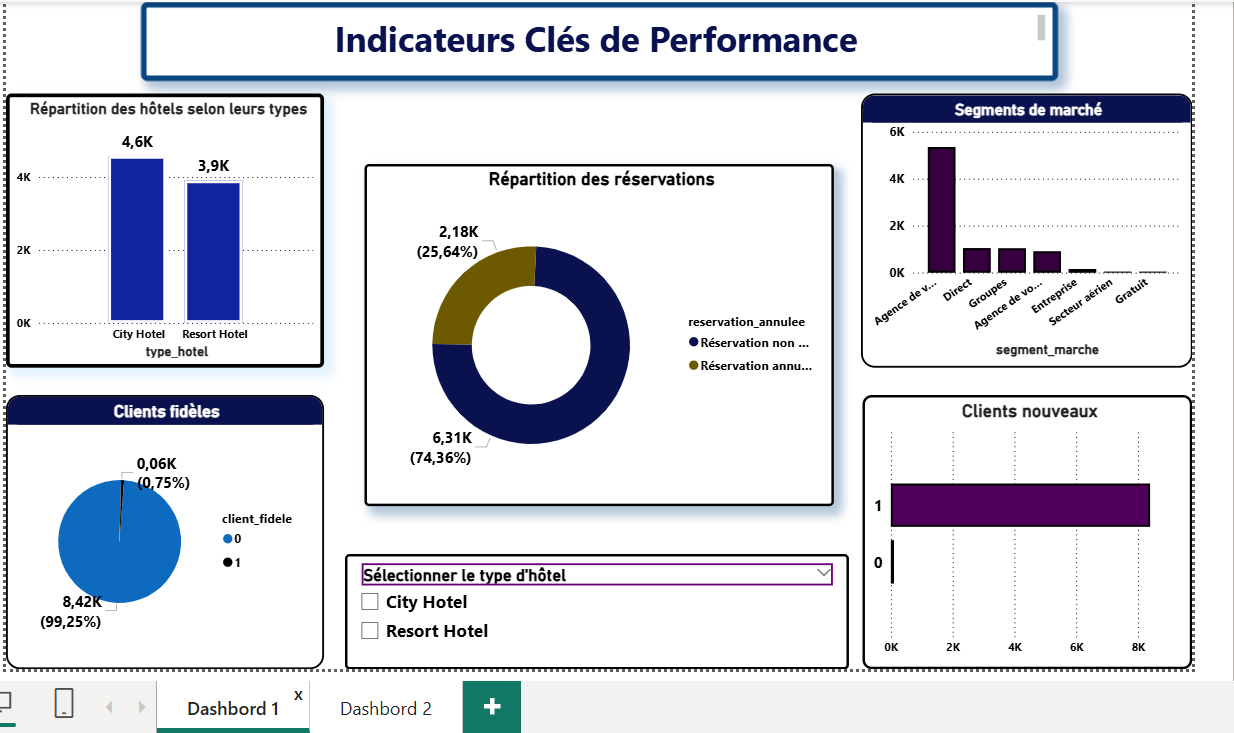

The page's visual inventory and layout, read from the dashboard file:
{"tool":"powerbi","page":{"name":"Dashbord 1","canvas":[1280,720],"ordinal":0},"visuals":[{"type":"textbox","box":[145.5,0,990.2,85],"z":0},{"type":"pieChart","title":"Clients fidèles","fields":{"Category":["Sheet1.client_fidele"],"Y":["CountNonNull(Sheet1.client_fidele)"]},"box":[0,424.2,343.3,296.3],"z":1000},{"type":"barChart","title":"Clients nouveaux","fields":{"Category":["Sheet1.client_nouveau"],"Y":["CountNonNull(Sheet1.client_nouveau)"]},"box":[923.8,423.7,356.2,296.3],"z":2000},{"type":"donutChart","title":"Répartition des réservations","fields":{"Category":["Sheet1.reservation_annulee"],"Y":["CountNonNull(Sheet1.reservation_annulee)"]},"box":[387,174.9,506.8,369.2],"z":3000},{"type":"clusteredColumnChart","title":"Répartition des hôtels selon leurs types","fields":{"Category":["Sheet1.type_hotel"],"Y":["CountNonNull(Sheet1.type_hotel)"]},"box":[0,98.8,343.3,296.3],"z":4000},{"type":"clusteredColumnChart","title":"Segments de marché","fields":{"Category":["Sheet1.segment_marche"],"Y":["CountNonNull(Sheet1.segment_marche)"]},"box":[922.2,98.8,357.8,296.3],"z":5000},{"type":"slicer","fields":{"Values":["Sheet1.type_hotel"]},"box":[365.9,595.9,544.1,124.7],"z":6000}]}

Visuals, with their boxes in screenshot pixels (x1, y1, x2, y2):
textbox: Rect(140, 0, 1048, 78)
"Clients fidèles" pieChart: Rect(6, 389, 321, 661)
"Clients nouveaux" barChart: Rect(854, 389, 1180, 660)
"Répartition des réservations" donutChart: Rect(361, 160, 826, 499)
"Répartition des hôtels selon leurs types" clusteredColumnChart: Rect(6, 91, 321, 362)
"Segments de marché" clusteredColumnChart: Rect(852, 91, 1180, 362)
slicer - Sheet1.type_hotel: Rect(342, 546, 841, 661)
